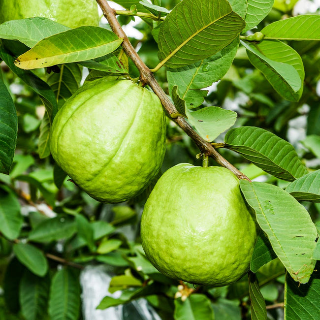oi: (142, 150, 254, 293), (49, 67, 164, 205)
